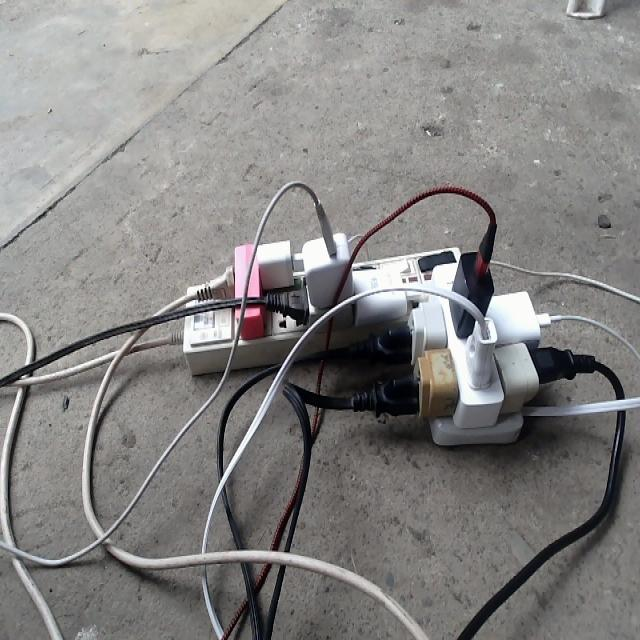-: (182, 178, 595, 446)
